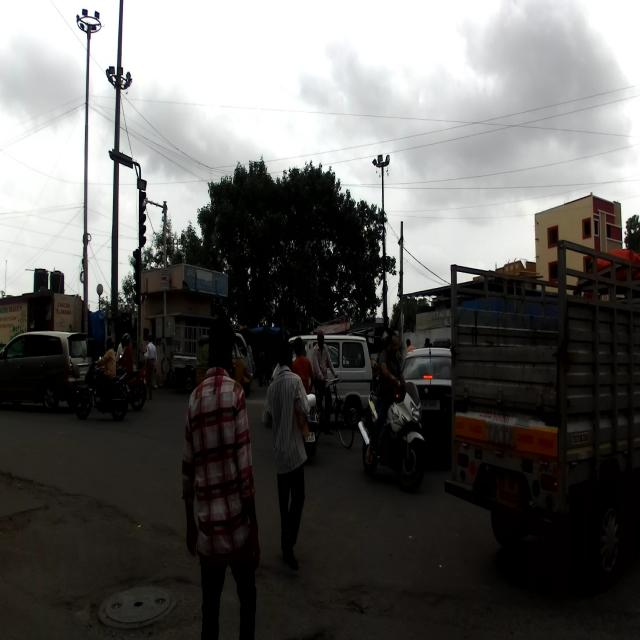autorickshaw: (194, 332, 252, 399)
car: (269, 330, 374, 428), (0, 328, 94, 416)
motorcycle: (358, 376, 427, 494), (73, 356, 130, 424), (114, 353, 147, 414)
truck: (443, 238, 640, 584)
